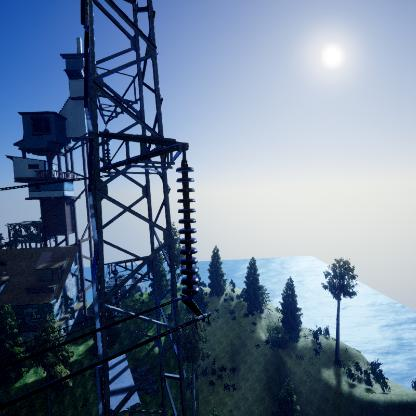insulator: (172, 163, 204, 297)
